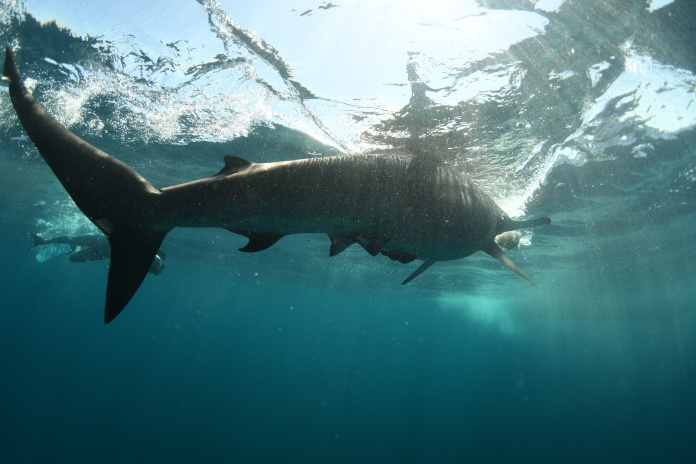Hammer: (1, 39, 568, 354)
